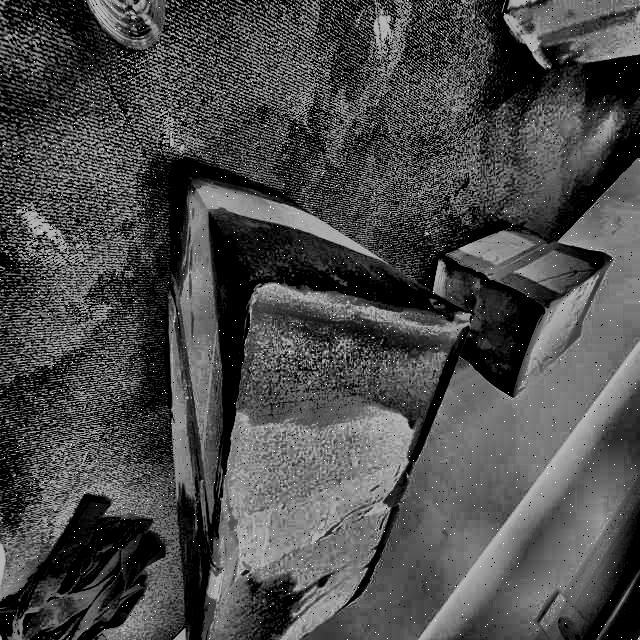box: (162, 153, 476, 640)
wet: (197, 203, 447, 457)
